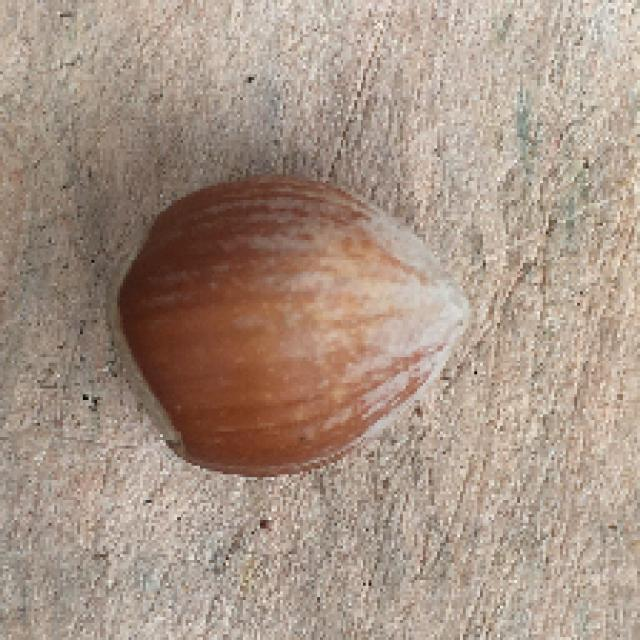qualityHazelnut: (90, 170, 486, 485)
